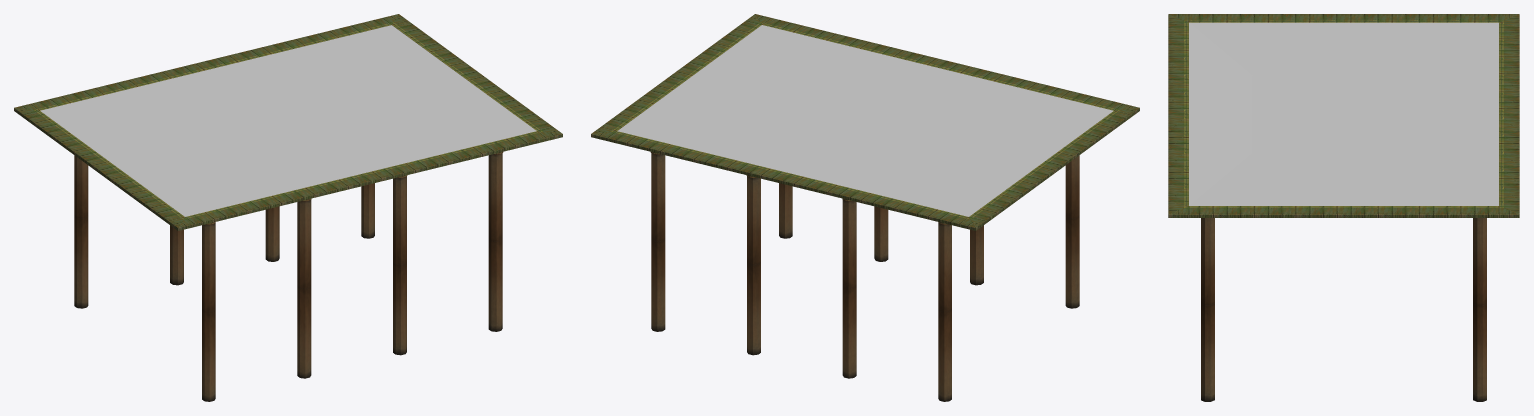
File: stage_001.fbx
3 renders of one model, left to right at view 1: azimuth 30°, elevation 25°; view 2: azimuth 150°, elevation 25°; view 3: azimuth 270°, elevation 25°, orthographic. The views are drawn at different scales.
Parts seen in each view (by area): view 1: stage_001; view 2: stage_001; view 3: stage_001.
Part boxes in pixels (<box>): stage_001: <box>14,14,562,401</box>; stage_001: <box>591,14,1139,401</box>; stage_001: <box>1168,14,1519,401</box>.
Bounding box in the file's own units: 31.26 × 15.24 × 23.11.
